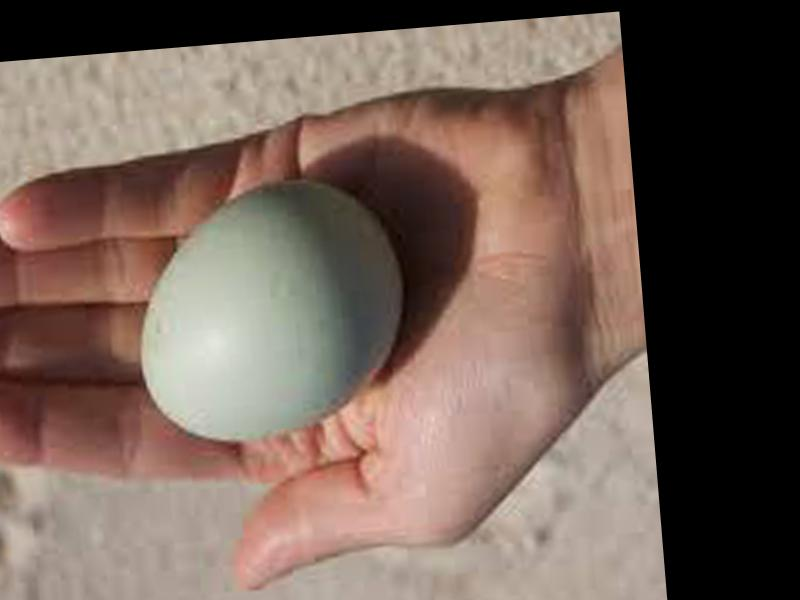Eggs: (133, 172, 407, 442)
